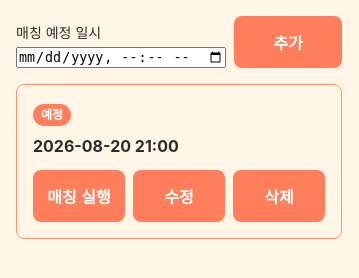
Scenario: RoundTab › 수정 취소 — 값이 원래대로 남고 요청도 없다
This screenshot has width=359, height=278.
Expected: the text "2026-08-20 21:00" is shown, [33,136,179,156]
Click the button "수정": (179, 196) [133,170,225,222]
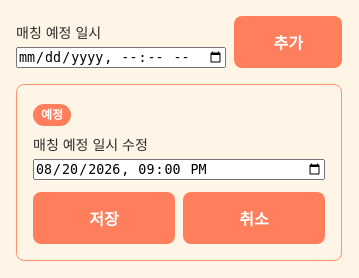
Replace the text in the field labelled "매칭 예정 일시 수정" with "2026-08-13T21:00": (179, 170) [33,159,325,180]
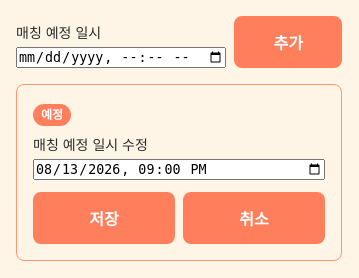
Click the button "취소": (254, 218) [183,192,325,244]
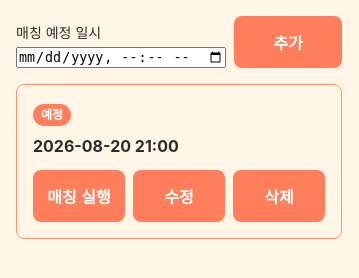
Expected: the text "2026-08-20 21:00" is shown, [33,136,179,156]
